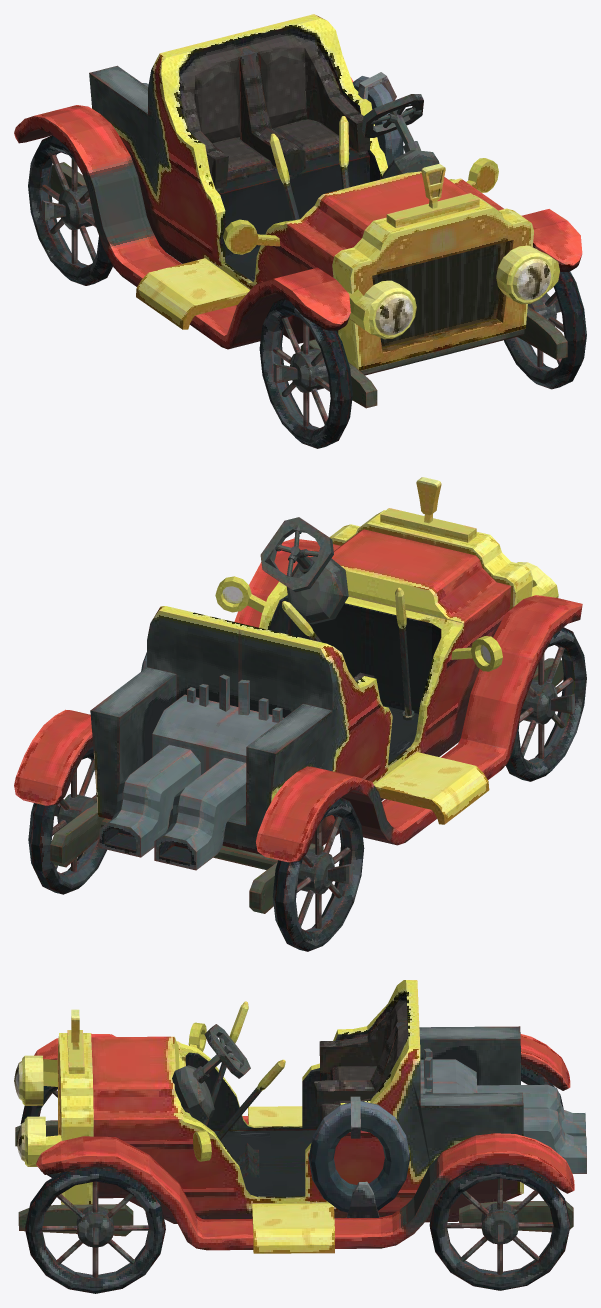
The model's file is auto-retro.glb.
3 views of the same model, one above another, from view 1: azimuth 30°, elevation 25°; view 2: azimuth 150°, elevation 25°; view 3: azimuth 270°, elevation 25° (orthographic). The views are drawn at different scales.
Visible parts, largest first — view 1: car.086_0; view 2: car.086_0; view 3: car.086_0.
Part boxes in pixels (x1,y1,x2,y2): car.086_0: (14, 14, 586, 448); car.086_0: (14, 477, 586, 951); car.086_0: (14, 980, 586, 1293).
Bounding box in the file's own units: 4.53 × 3.65 × 8.15.
Materials: 1 (1 with a texture image).
